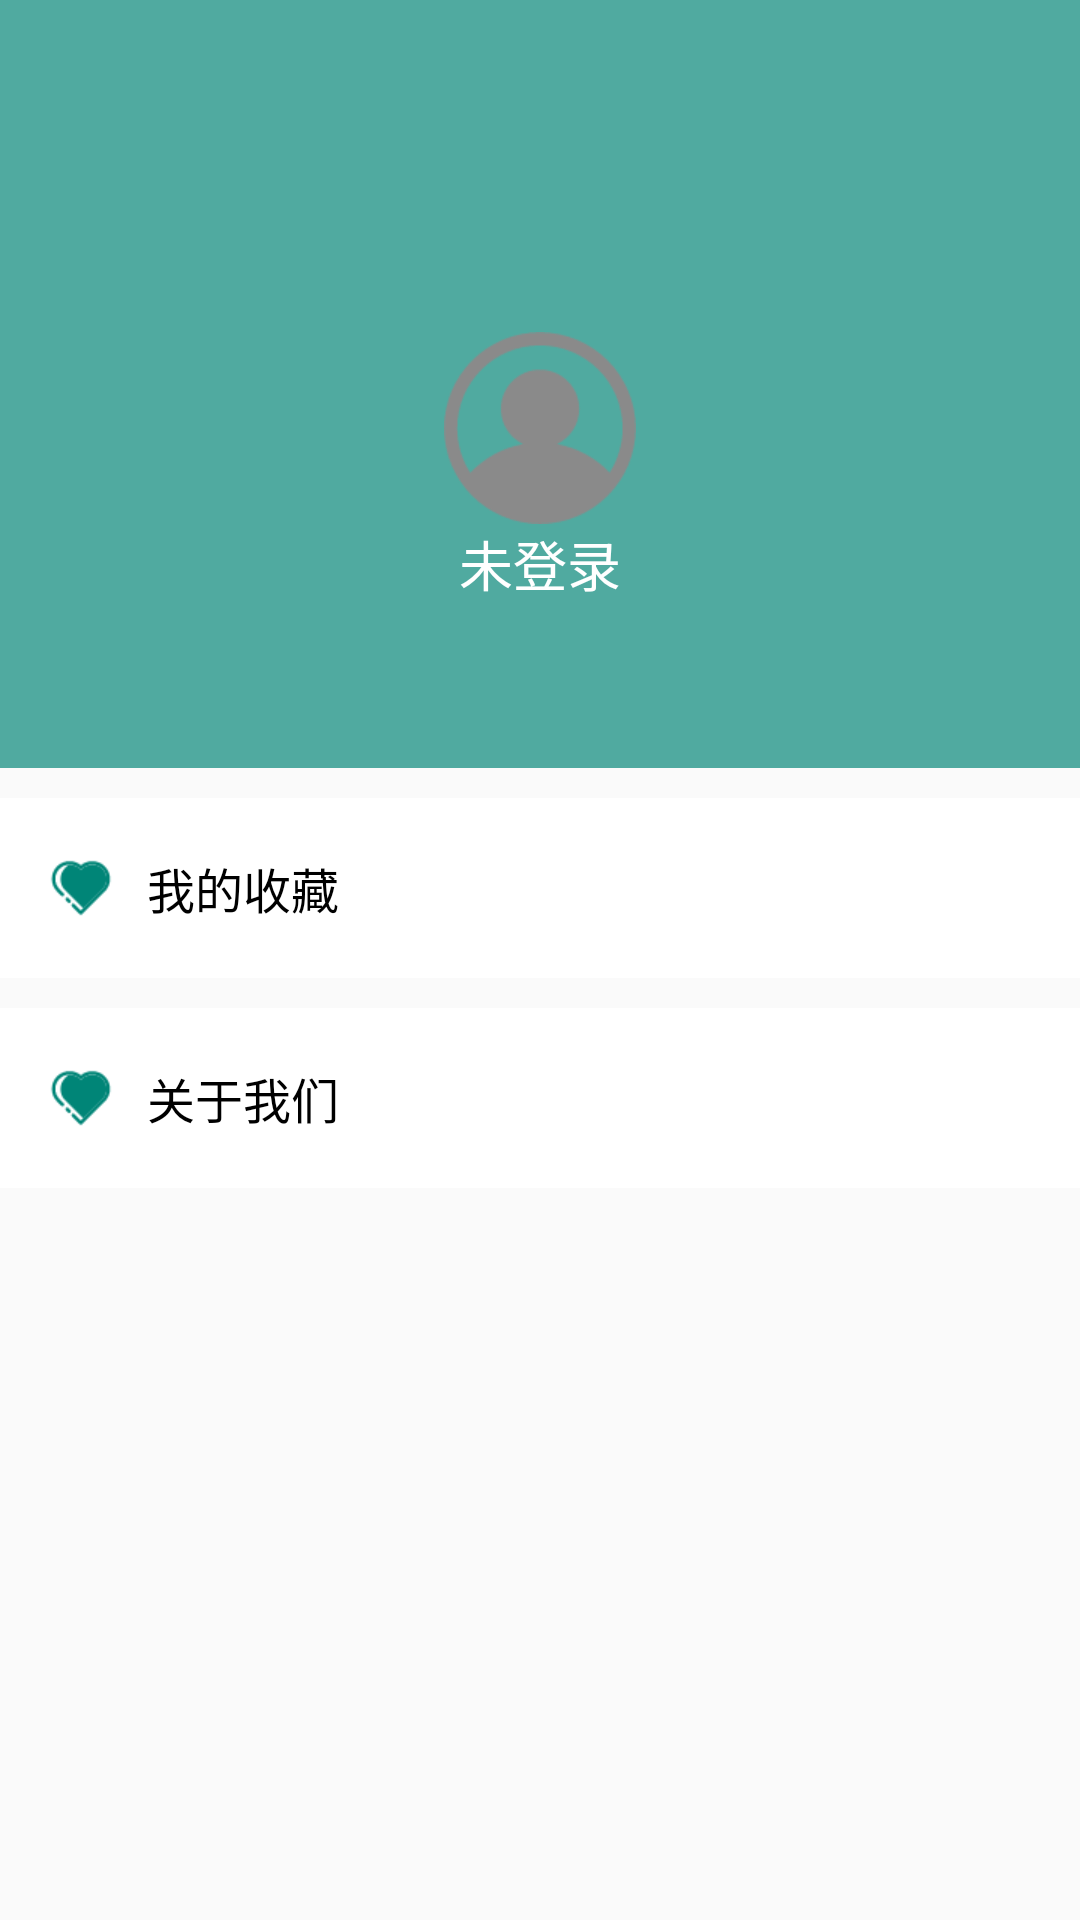

Icons on this 1080px×1920px Android screen, each with its box as bbox(x1, y1, x2, y2):
collect: bbox(51, 860, 111, 916), bbox(51, 1070, 111, 1126)
user head: bbox(444, 332, 636, 524)
